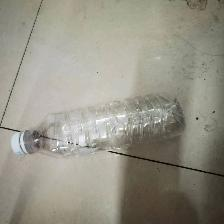bottle: (8, 55, 195, 198)
